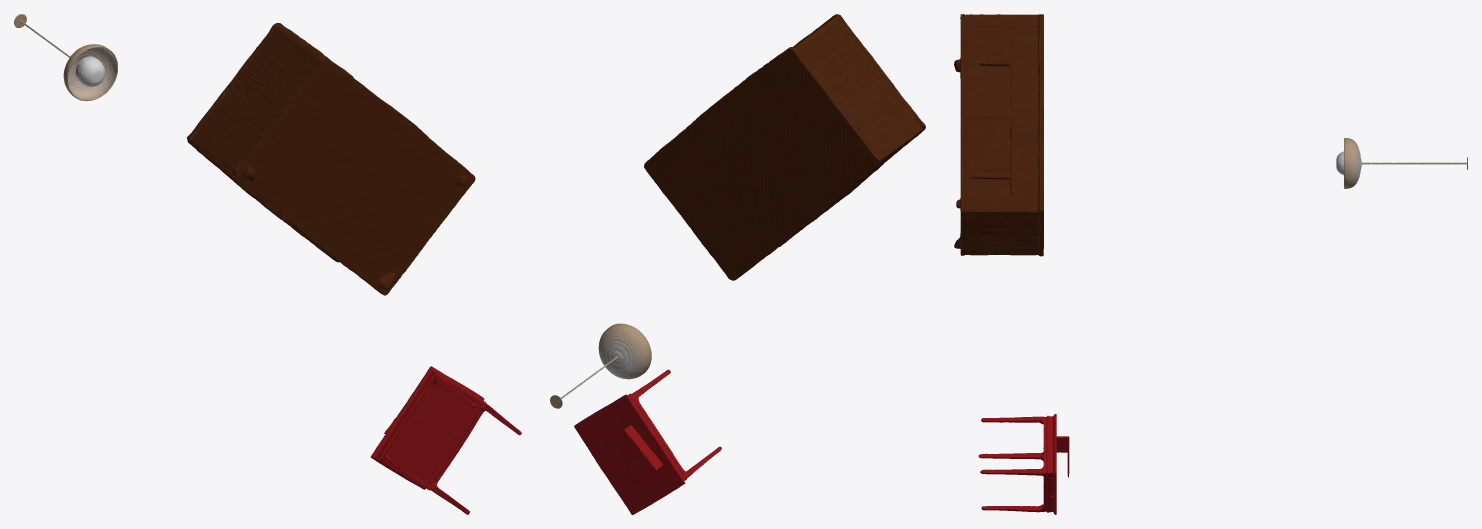
The picture shows the model from 3 angles, left to right: view 1: azimuth 30°, elevation 25°; view 2: azimuth 150°, elevation 25°; view 3: azimuth 270°, elevation 25°; orthographic projection. The views are drawn at different scales.
Visible parts, largest first — view 1: scene_0000001_object_1_textured_scene_0000001_object_1_textu, scene_0000001_object_0_textured_scene_0000001_object_0_textu, scene_0000001_object_2_textured_scene_0000001_object_2_textu; view 2: scene_0000001_object_1_textured_scene_0000001_object_1_textu, scene_0000001_object_0_textured_scene_0000001_object_0_textu, scene_0000001_object_2_textured_scene_0000001_object_2_textu; view 3: scene_0000001_object_1_textured_scene_0000001_object_1_textu, scene_0000001_object_0_textured_scene_0000001_object_0_textu, scene_0000001_object_2_textured_scene_0000001_object_2_textu.
Boxes of the visible parts, bbox=[...] form: scene_0000001_object_1_textured_scene_0000001_object_1_textu: bbox=[187, 23, 475, 295]; scene_0000001_object_0_textured_scene_0000001_object_0_textu: bbox=[370, 366, 521, 514]; scene_0000001_object_2_textured_scene_0000001_object_2_textu: bbox=[14, 14, 117, 101]; scene_0000001_object_1_textured_scene_0000001_object_1_textu: bbox=[644, 14, 925, 280]; scene_0000001_object_0_textured_scene_0000001_object_0_textu: bbox=[574, 369, 721, 514]; scene_0000001_object_2_textured_scene_0000001_object_2_textu: bbox=[550, 323, 651, 408]; scene_0000001_object_1_textured_scene_0000001_object_1_textu: bbox=[954, 14, 1043, 256]; scene_0000001_object_0_textured_scene_0000001_object_0_textu: bbox=[978, 414, 1069, 514]; scene_0000001_object_2_textured_scene_0000001_object_2_textu: bbox=[1336, 138, 1467, 188].
Bounding box in the file's own units: 1.58 × 2.52 × 2.7.
3 materials, 3 textured.
